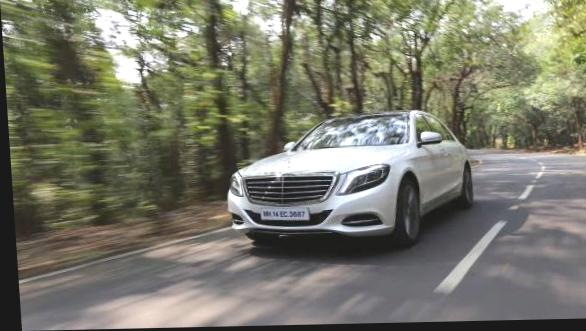License_Plate: (254, 199, 313, 226)
